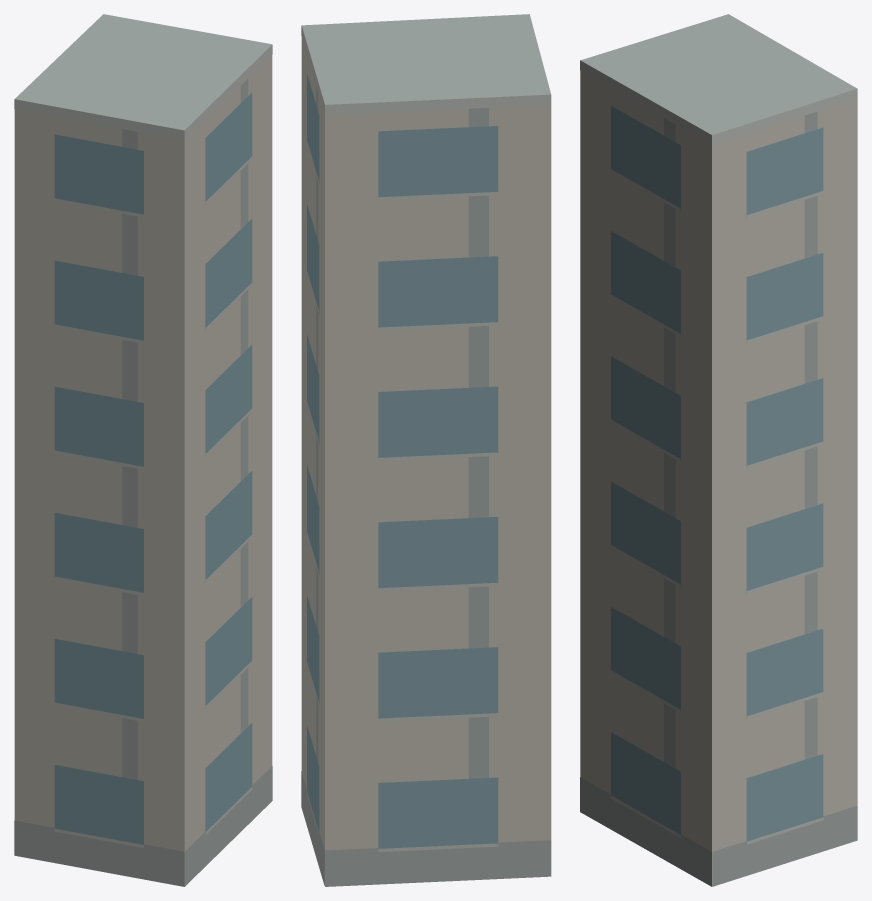
Rendered from survey-upis-32830224.glb.
The picture shows the model from 3 angles, left to right: view 1: azimuth 30°, elevation 25°; view 2: azimuth 150°, elevation 25°; view 3: azimuth 270°, elevation 25°; orthographic projection. The views are drawn at different scales.
Parts seen in each view (by area): view 1: survey-upis-32830224.tmp; view 2: survey-upis-32830224.tmp; view 3: survey-upis-32830224.tmp.
Boxes of the visible parts, x1,y1,x2,y2 form: survey-upis-32830224.tmp: [14, 14, 272, 886]; survey-upis-32830224.tmp: [301, 14, 551, 886]; survey-upis-32830224.tmp: [580, 14, 857, 886].
Bounding box in the file's own units: 6.33 × 18.3 × 6.13.
